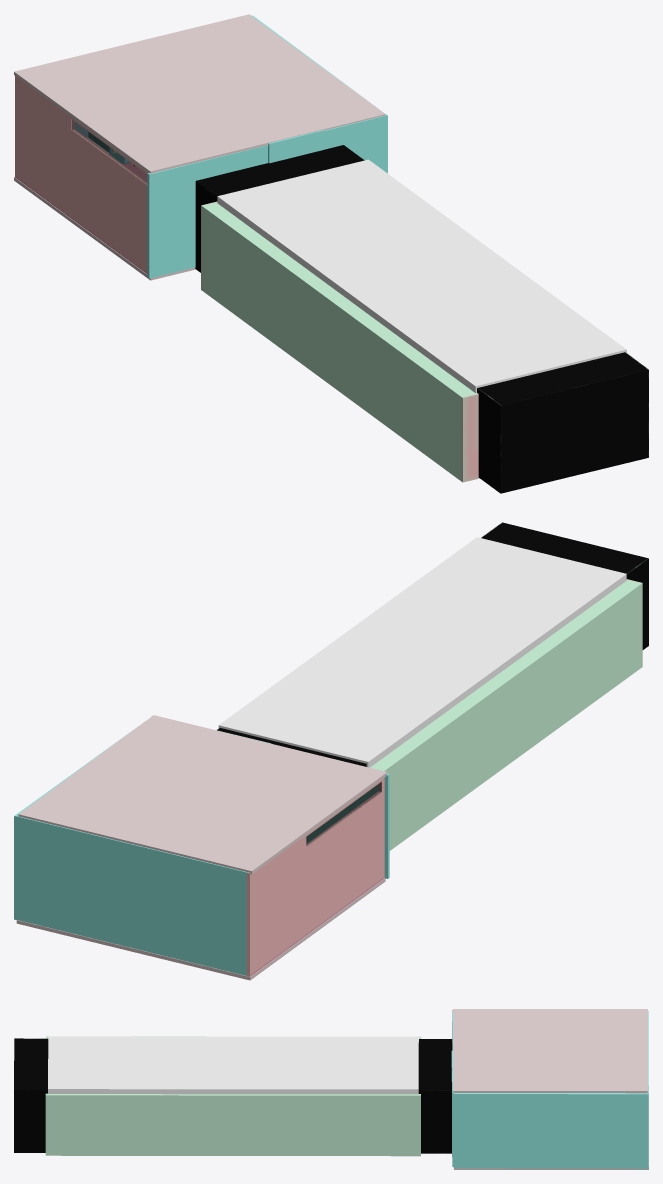
File: smallbathroomh.glb
3 renders of one model, top to bottom at view 1: azimuth 30°, elevation 25°; view 2: azimuth 150°, elevation 25°; view 3: azimuth 270°, elevation 25°, orthographic. The views are drawn at different scales.
Parts seen in each view (by area): view 1: Object_3, polySurface407, Object_9, Object_8, polySurface405, polySurface289, Object_4, polySurface402; view 2: Object_3, polySurface407, polySurface289, Object_9, polySurface405, Object_8, polySurface402; view 3: Object_10, Object_3, polySurface407, polySurface289, Object_8, Object_4.
Boxes of the visible parts, x1,y1,x2,y2 form: Object_3: (217,159,626,393); polySurface407: (14,14,385,280); Object_9: (201,201,479,482); Object_8: (477,352,648,493); polySurface405: (15,76,155,272); polySurface289: (147,15,387,278); Object_4: (195,145,364,272); polySurface402: (72,120,147,184); Object_3: (218,537,626,767); polySurface407: (16,715,387,980); polySurface289: (14,715,389,975); Object_9: (370,579,642,850); polySurface405: (246,778,384,976); Object_8: (481,522,648,649); polySurface402: (306,782,381,846); Object_10: (45,1093,420,1156); Object_3: (48,1036,418,1094); polySurface407: (453,1009,648,1169); polySurface289: (451,1010,648,1168); Object_8: (14,1038,48,1152); Object_4: (418,1039,452,1153).
Size of the model in its own units: 8.37 by 3.68 by 26.72.
90 materials, 90 textured.
